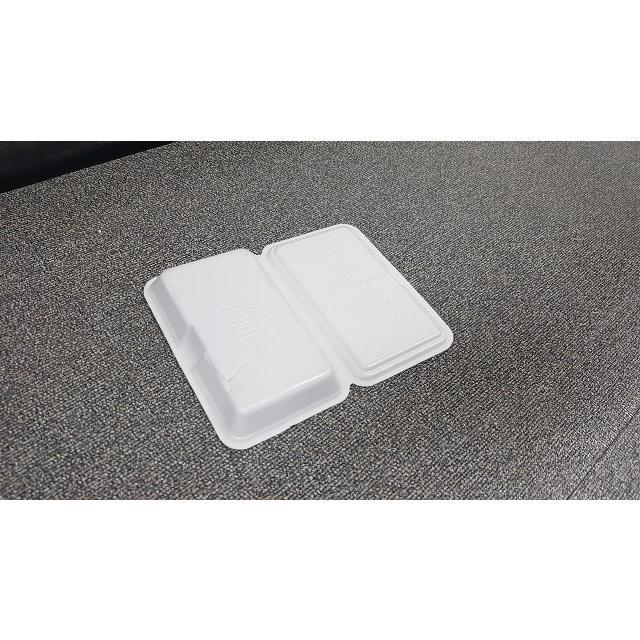Recipiente plastico: (145, 225, 452, 449)
